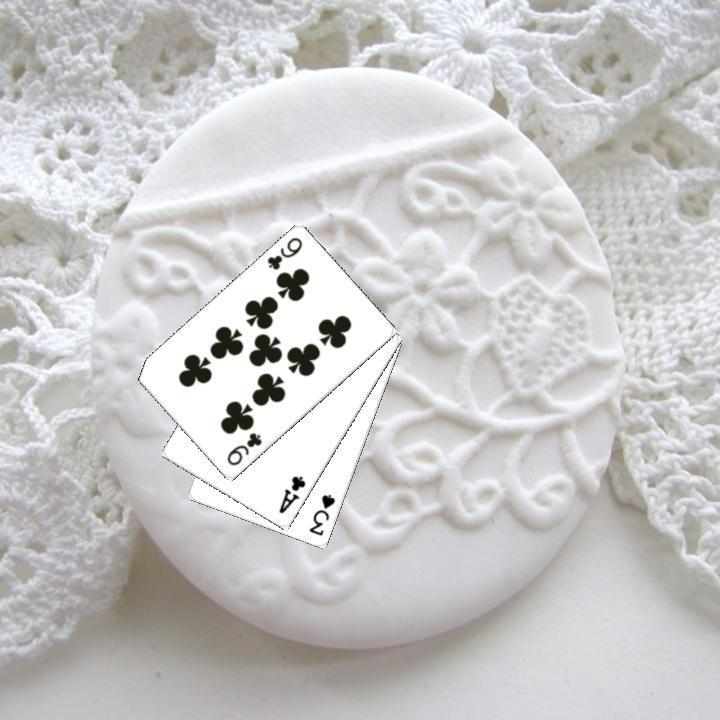3: (305, 490, 337, 538)
9: (222, 428, 264, 468), (262, 233, 304, 273)
A: (274, 472, 308, 516)
